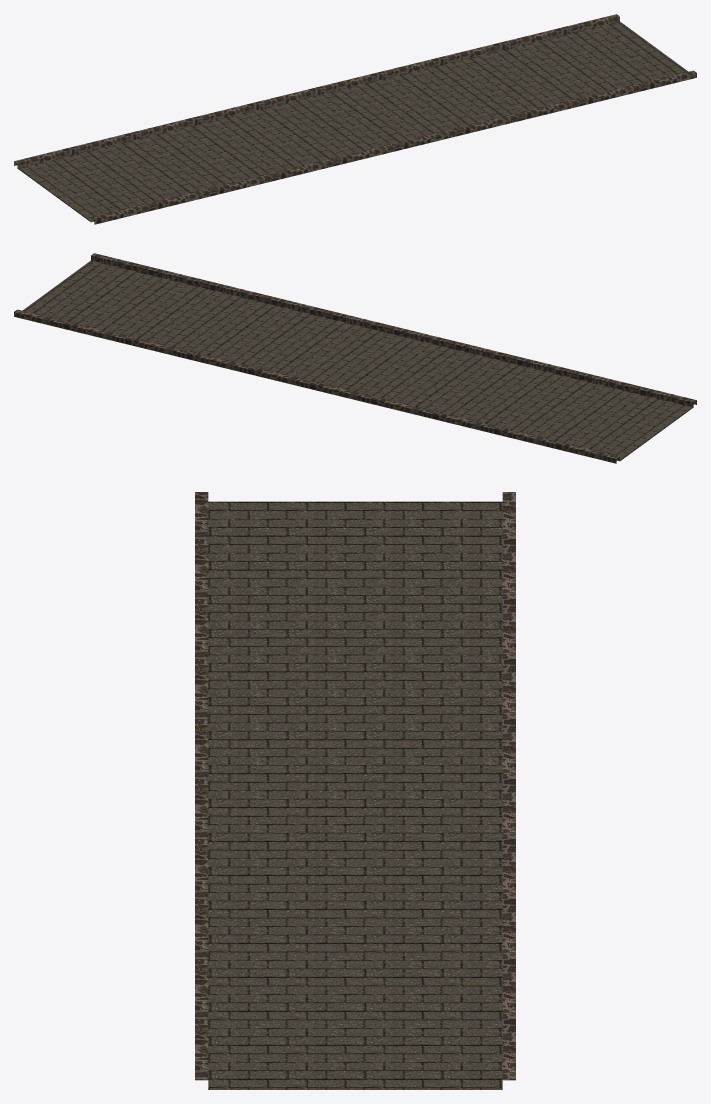
File: road_20m.obj
3 renders of one model, top to bottom at view 1: azimuth 30°, elevation 25°; view 2: azimuth 150°, elevation 25°; view 3: azimuth 270°, elevation 25°, orthographic. The views are drawn at different scales.
Visible parts, largest first — view 1: Road_20M_Plane.002; view 2: Road_20M_Plane.002; view 3: Road_20M_Plane.002.
Part boxes in pixels (box(x1,y1,x2,y2)): Road_20M_Plane.002: box(14, 14, 696, 224); Road_20M_Plane.002: box(14, 253, 696, 463); Road_20M_Plane.002: box(195, 492, 515, 1089).
Bounding box in the file's own units: 26 × 0.2 × 6.
2 materials, 2 textured.
